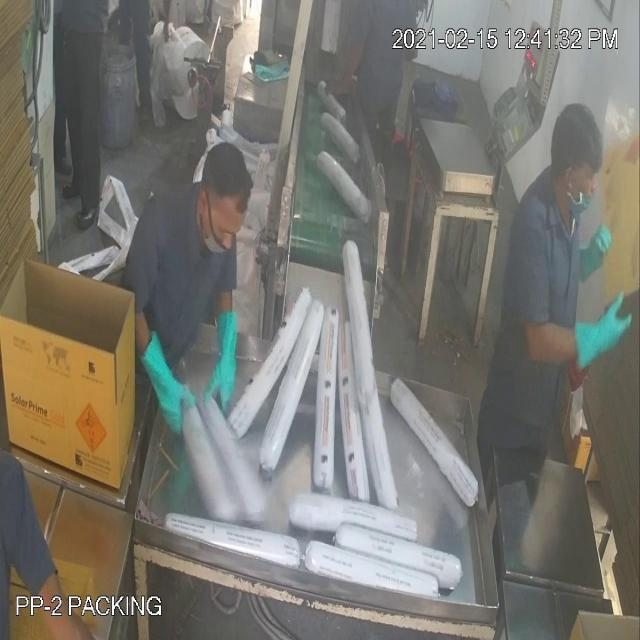Gloves: (41, 74, 592, 385)
